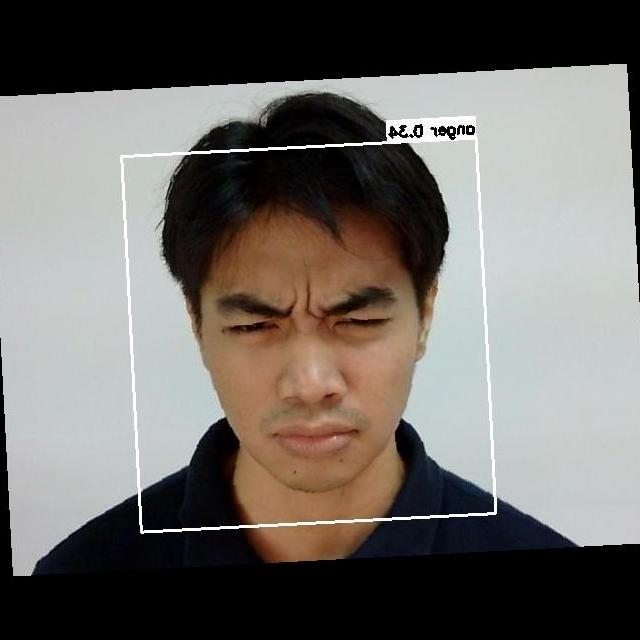Angry: (190, 235, 425, 470)
